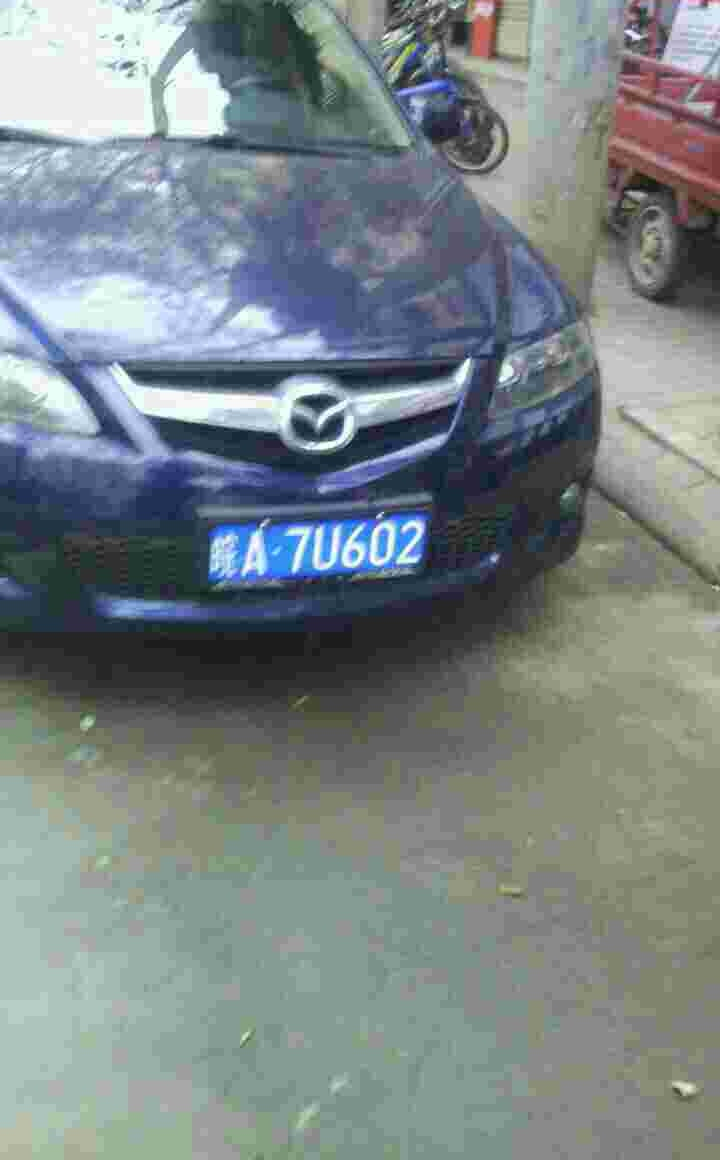license_plate: (214, 518, 421, 586)
